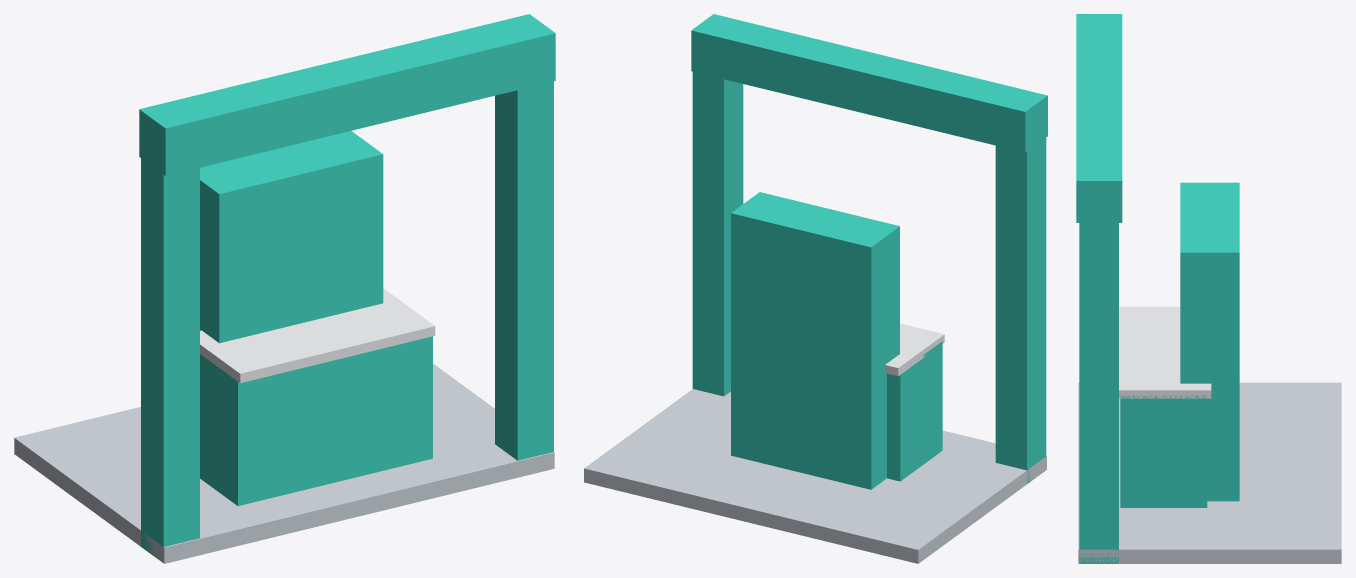
3 views of the same model, side by side, from view 1: azimuth 30°, elevation 25°; view 2: azimuth 150°, elevation 25°; view 3: azimuth 270°, elevation 25° (orthographic). The views are drawn at different scales.
Parts seen in each view (by area): view 1: Exhibition Booth Concept; view 2: Exhibition Booth Concept; view 3: Exhibition Booth Concept.
Part boxes in pixels (x1,y1,x2,y2): Exhibition Booth Concept: (14, 14, 555, 563); Exhibition Booth Concept: (584, 14, 1047, 563); Exhibition Booth Concept: (1076, 14, 1341, 563).
Size of the model in its own units: 3 by 3.2 by 2.01.
